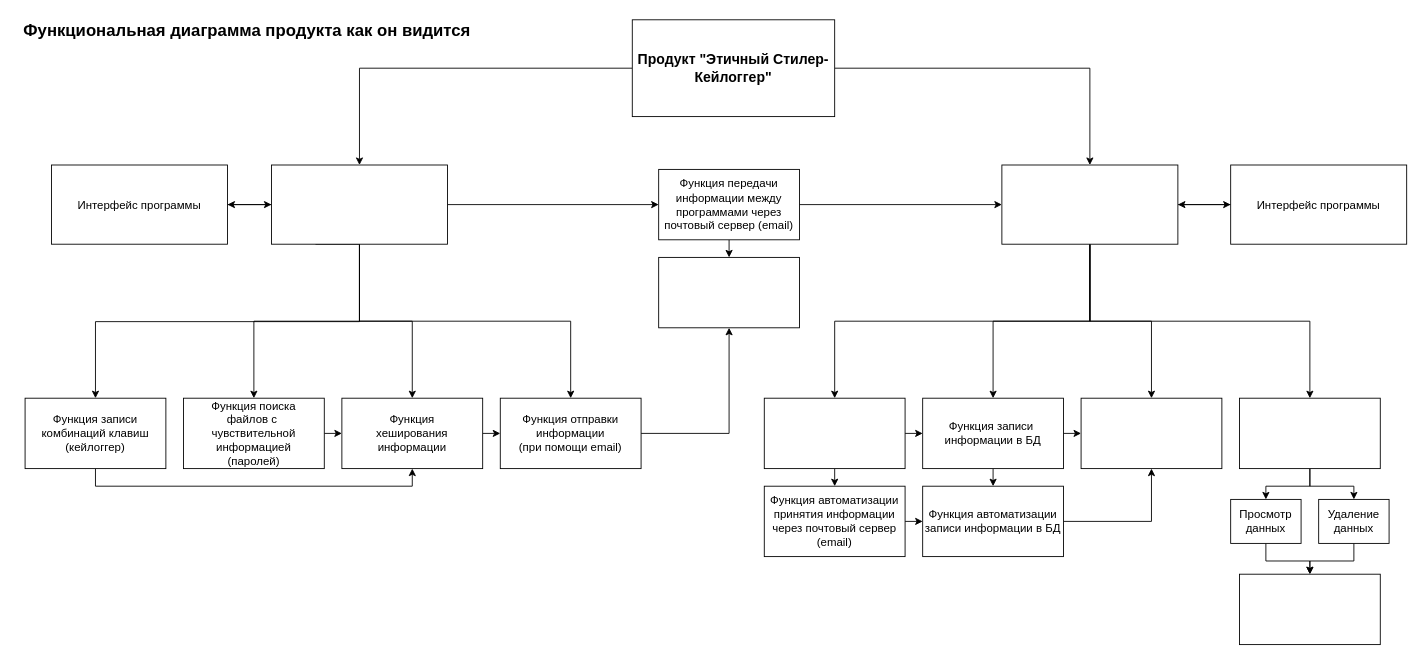
Image size: 1422x660. Some labels were removed from this diagram. Each missing label, with the centre of its shape:
"База данных EHP_Project СУБД PostgreSQL" goes at pixel 1309 609.
"Почтовый сервер mail.ru" goes at pixel 728 292.
"Программа Administrator_Interface_Tools.py" goes at pixel 1089 204.
"Программа Stealer_Keylogger.py" goes at pixel 359 204.
"Функция принятия информации через почтовый сервер (email)" goes at pixel 834 433.
"Функция работы с данными в БД" goes at pixel 1309 433.
"Функция уведомления пользователя о новой информации в БД" goes at pixel 1151 433.
